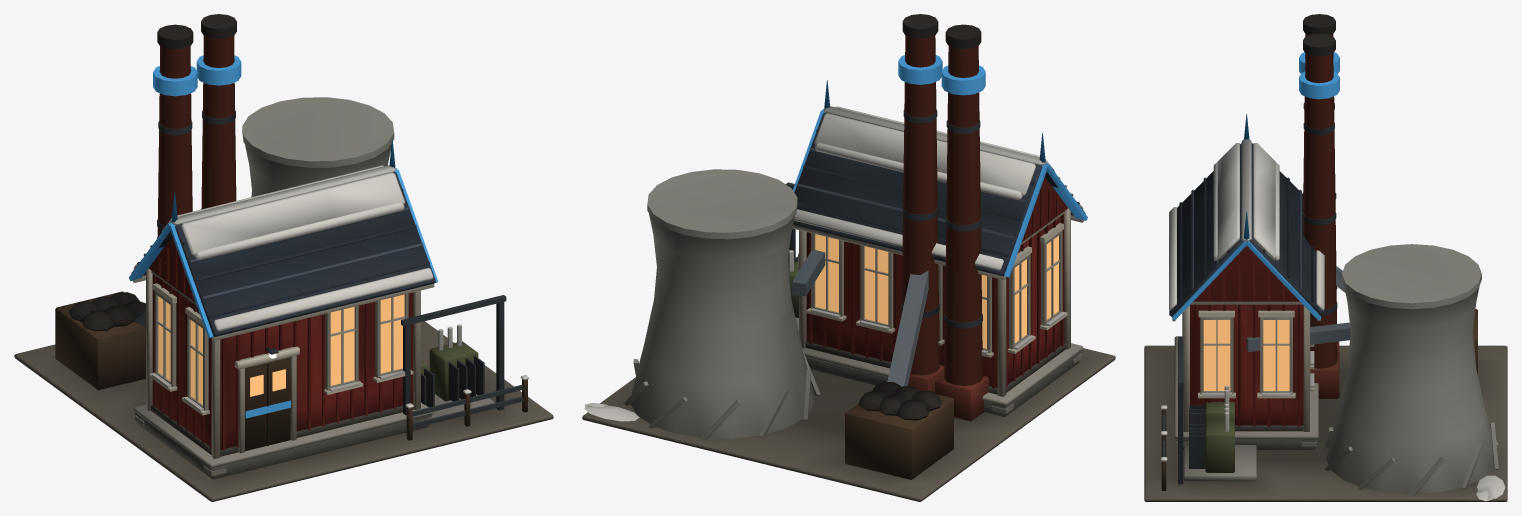
The model's file is plant.glb.
The picture shows the model from 3 angles, left to right: view 1: azimuth 30°, elevation 25°; view 2: azimuth 150°, elevation 25°; view 3: azimuth 270°, elevation 25°; orthographic projection. The views are drawn at different scales.
Parts seen in each view (by area): view 1: plant_root_matte, plant_root_glass, plant_root_metal, plant_root_trim; view 2: plant_root_matte, plant_root_glass, plant_root_metal, plant_root_trim; view 3: plant_root_matte, plant_root_glass, plant_root_metal, plant_root_trim.
Part boxes in pixels (bbox=[...]): plant_root_matte: bbox=[14, 14, 553, 501]; plant_root_glass: bbox=[158, 294, 404, 404]; plant_root_metal: bbox=[134, 111, 506, 433]; plant_root_trim: bbox=[129, 55, 438, 418]; plant_root_matte: bbox=[582, 14, 1115, 501]; plant_root_glass: bbox=[815, 234, 1058, 348]; plant_root_metal: bbox=[786, 109, 982, 386]; plant_root_trim: bbox=[793, 55, 1087, 277]; plant_root_matte: bbox=[1144, 14, 1507, 501]; plant_root_glass: bbox=[1203, 320, 1289, 390]; plant_root_metal: bbox=[1178, 103, 1350, 484]; plant_root_trim: bbox=[1172, 52, 1339, 320].
Size of the model in its own units: 11.27 by 11.85 by 11.
